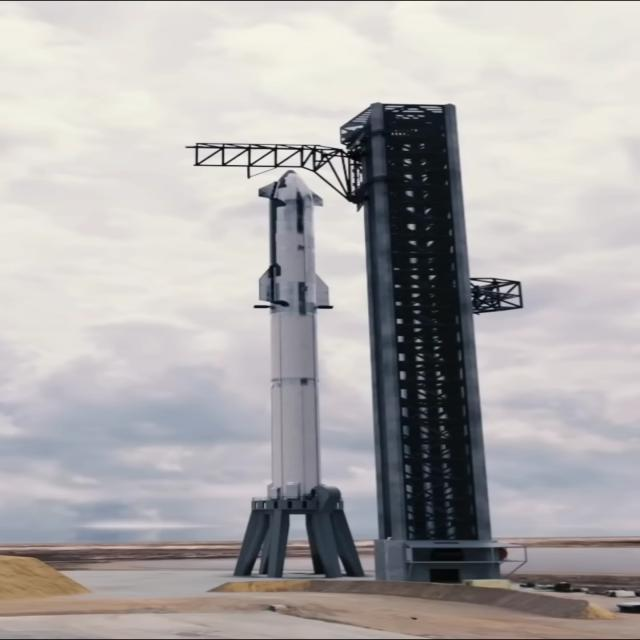missile: (248, 182, 334, 503)
